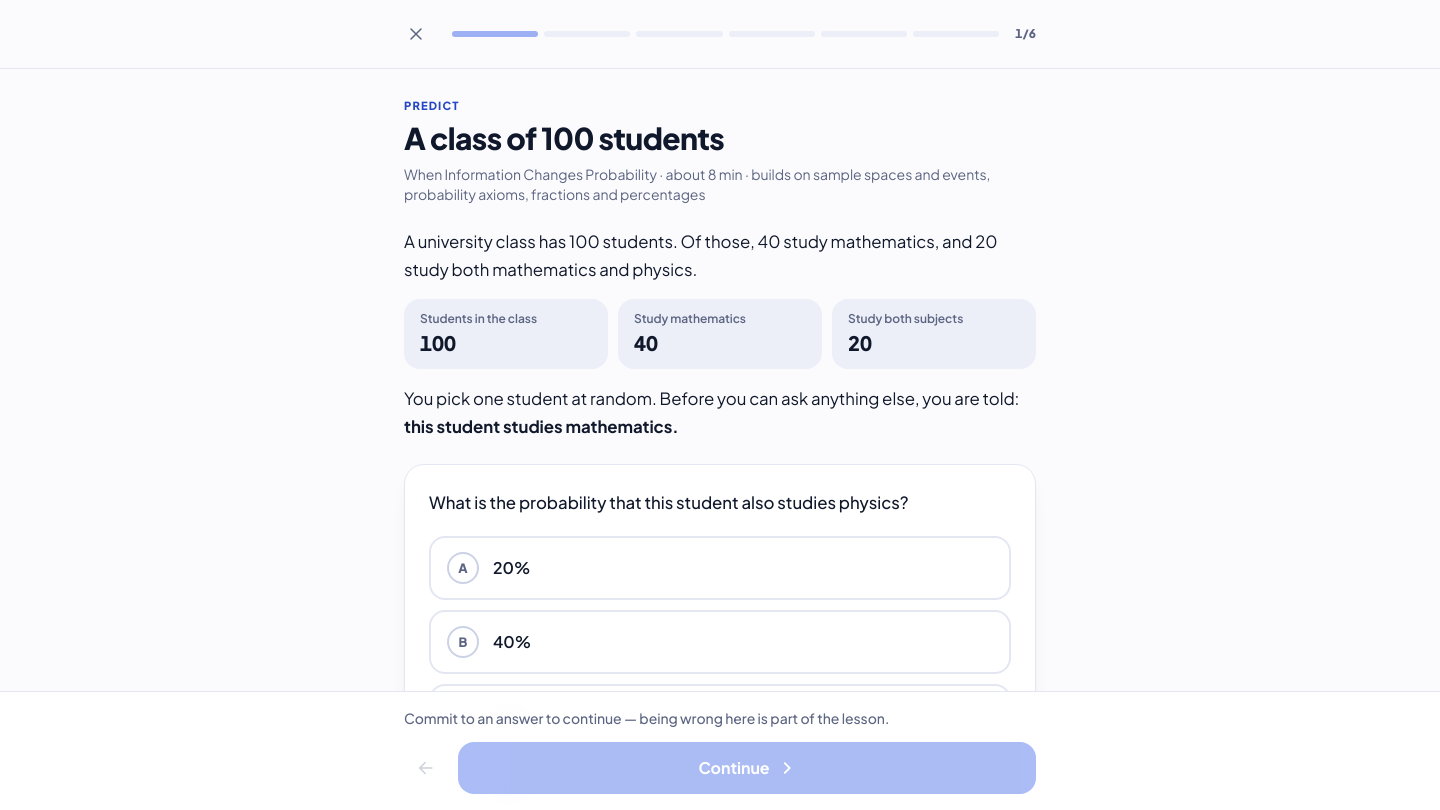
the predict screen › explains the specific misconception behind a wrong choice
Check: the heading "A class of 100 students" is shown, box x1=404 y1=119 x2=724 y2=157
Click the radio button labelled "20%". click: (463, 568)
box: x1=429 y1=536 x2=1011 y2=600
(page scrolled)
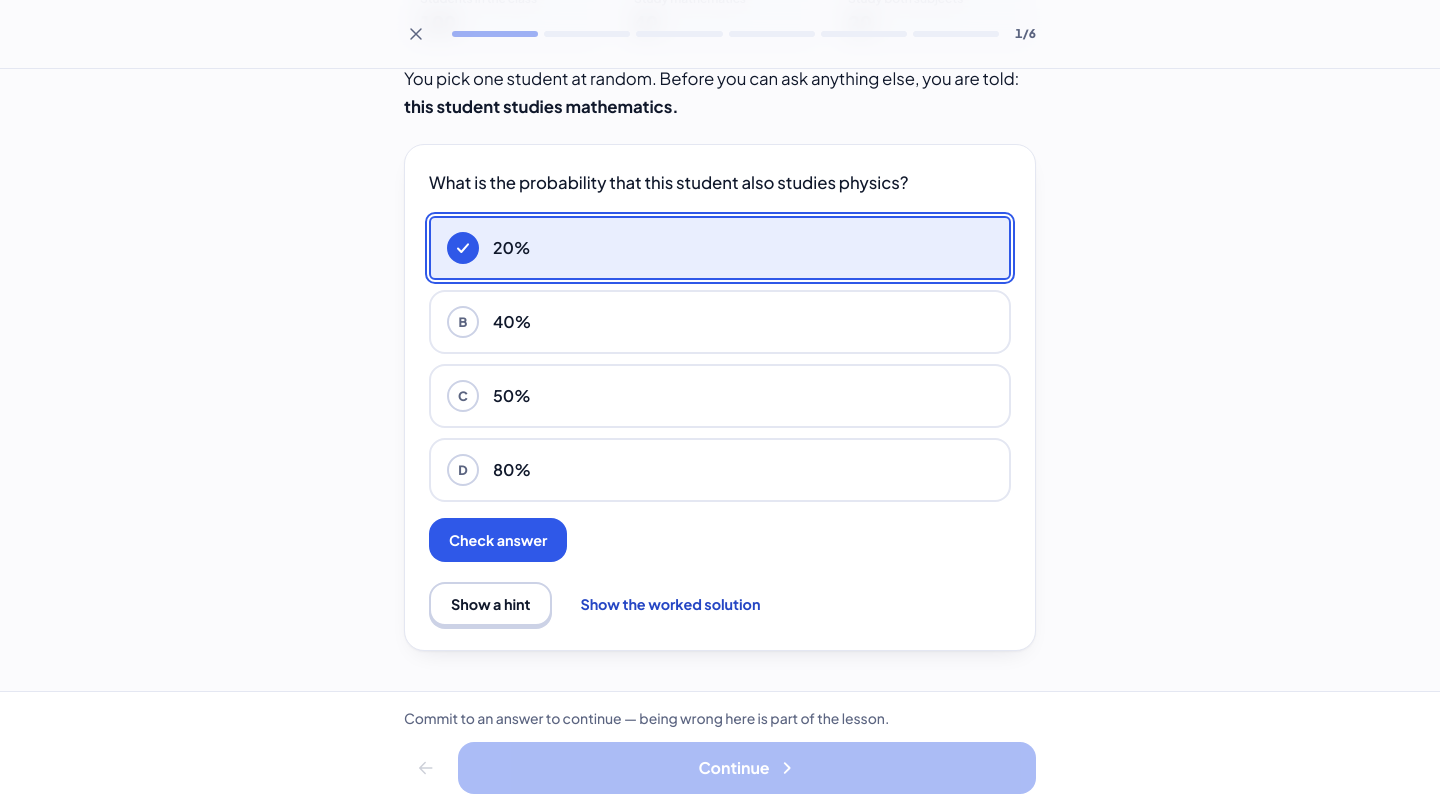
Click the button "Check answer". click: (498, 540)
box: x1=429 y1=518 x2=567 y2=562
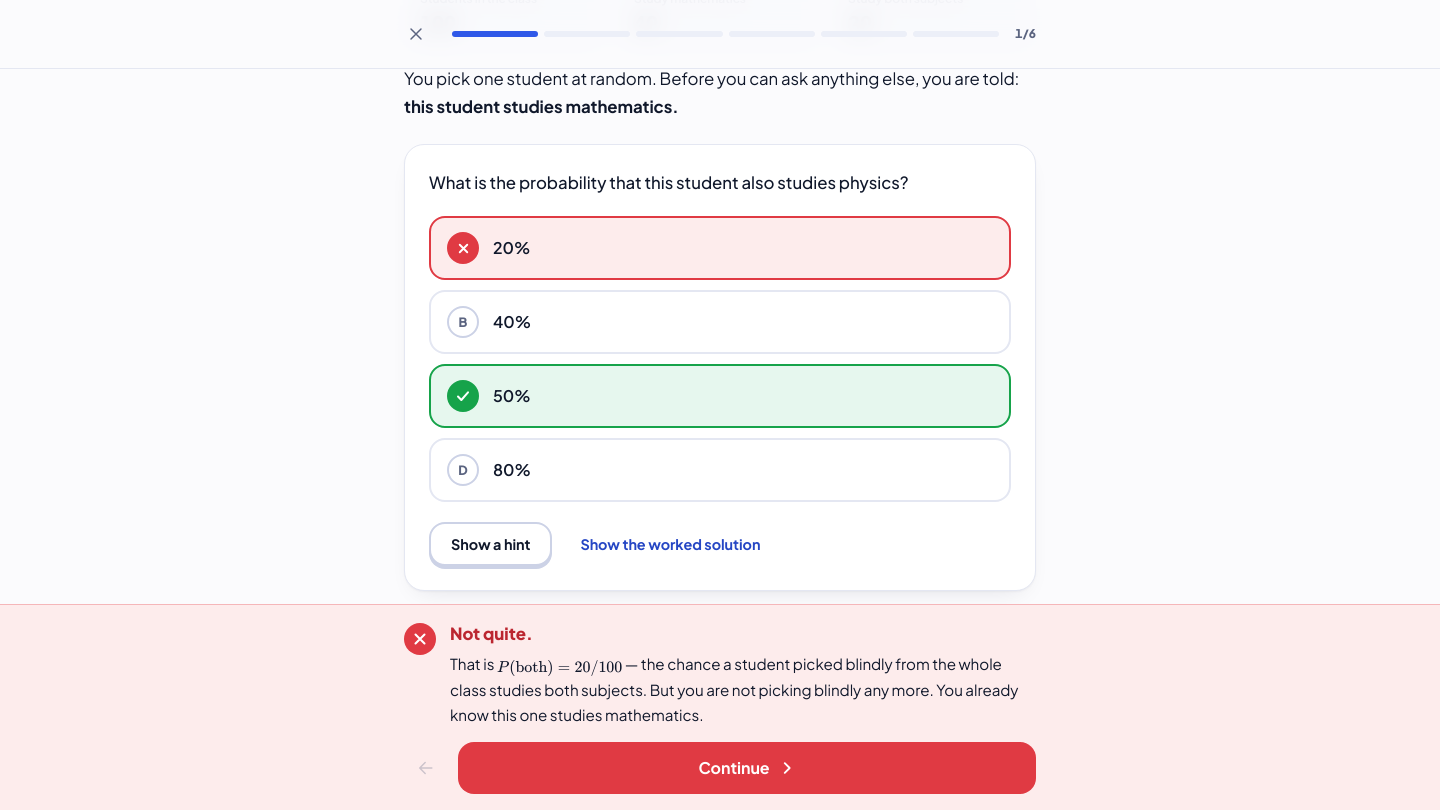
Check: the text "Not quite." is shown, box x1=450 y1=624 x2=533 y2=644
Check: the text "the chance a student picked blindly" is shown, box x1=450 y1=654 x2=1018 y2=724
Check: the button "Continue" is enabled, box x1=458 y1=742 x2=1036 y2=794
